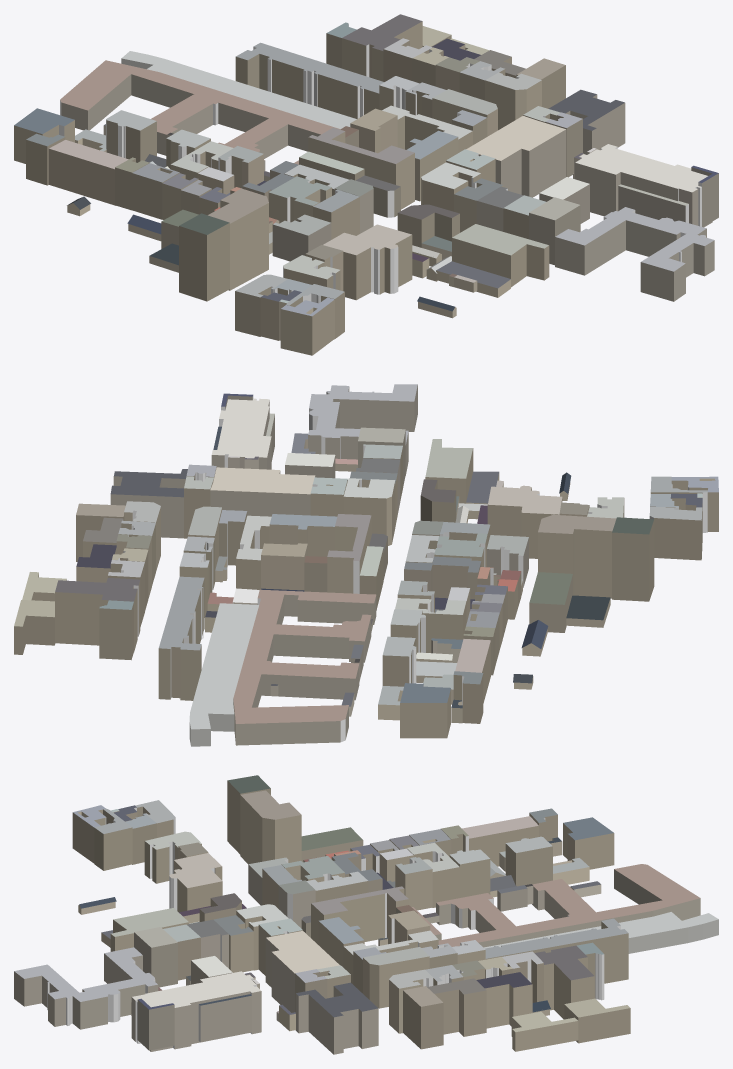
The picture shows the model from 3 angles, top to bottom: view 1: azimuth 30°, elevation 25°; view 2: azimuth 150°, elevation 25°; view 3: azimuth 270°, elevation 25°; orthographic projection. The views are drawn at different scales.
Visible parts, largest first — view 1: tuile; view 2: tuile; view 3: tuile.
Boxes of the visible parts, <box> form: tuile: <box>14,14,718,355</box>; tuile: <box>14,384,718,746</box>; tuile: <box>14,775,718,1054</box>.
Bounding box in the file's own units: 248 × 40.99 × 339.
